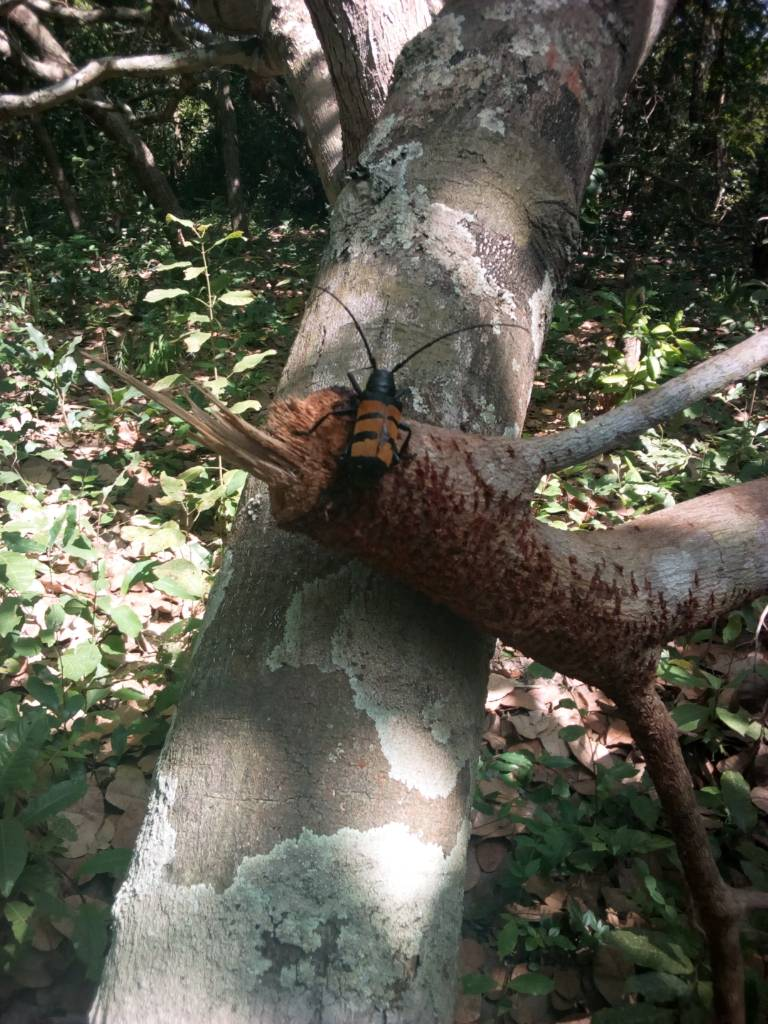Analepse trifasciata: (129, 355, 372, 564)
